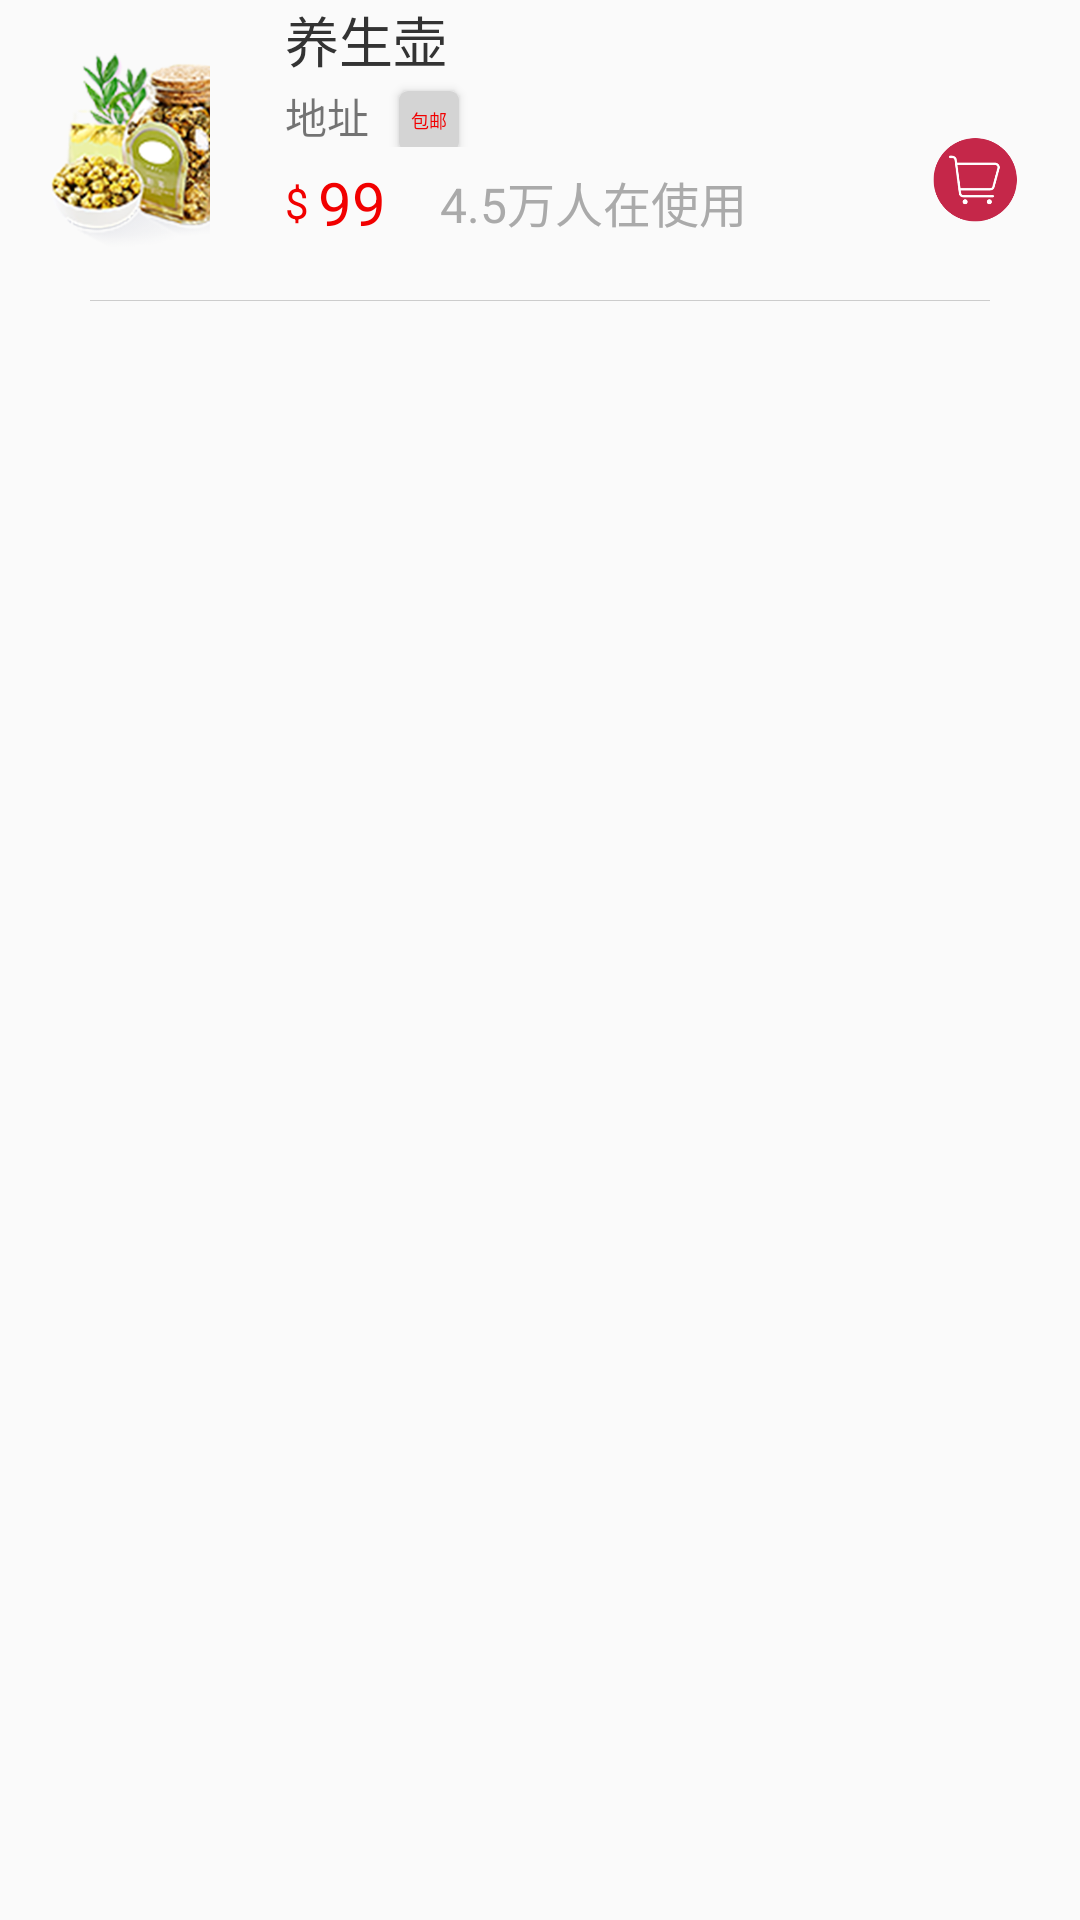

Screen size 1080×1920. Icon name, then its box in pixels as (x1, y1, x2, y2):
gouwuche: (933, 138, 1017, 222)
